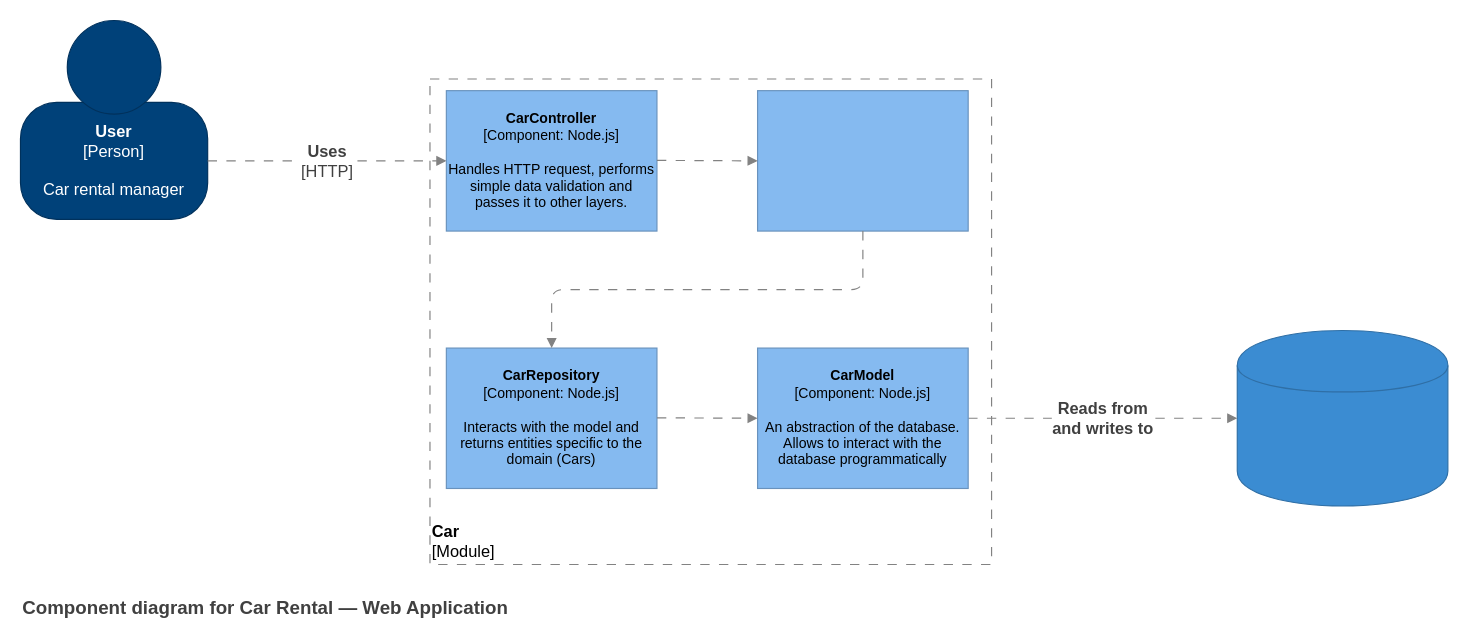
Image size: 1468x640. Some labels were removed from this diagram. The shapes that lost their labels are listed below. From the top down, each one's centre as x and y in pixels, then its label:
the point at 862,160: CarService [Component: Node.js] Contains business logic
the point at 1342,417: Database [Container: SQLite] Stores information about rental cars and clients
